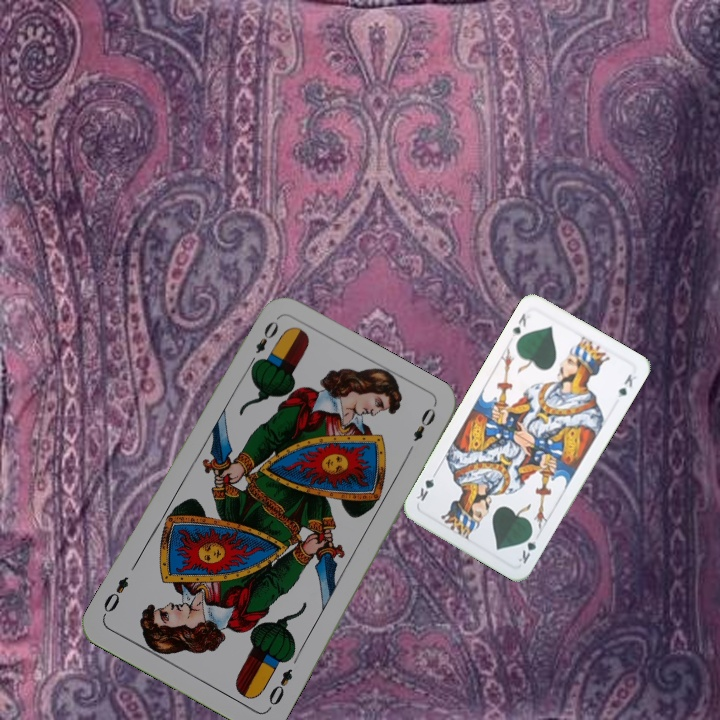EO: (244, 316, 282, 370), (264, 664, 295, 713)
GK: (514, 528, 541, 567), (507, 309, 529, 339)
